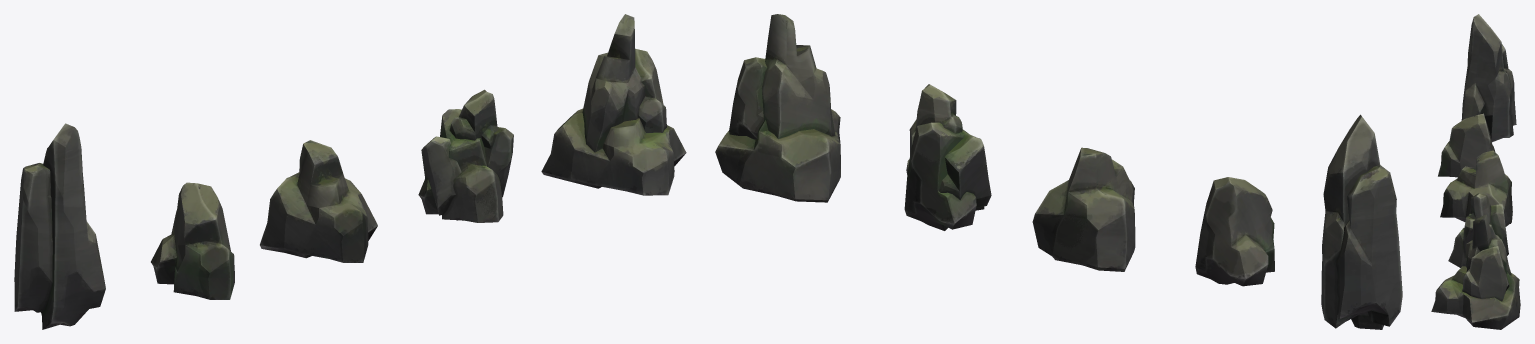
File: Rocks.glb
3 views of the same model, side by side, from view 1: azimuth 30°, elevation 25°; view 2: azimuth 150°, elevation 25°; view 3: azimuth 270°, elevation 25° (orthographic). The views are drawn at different scales.
Parts seen in each view (by area): view 1: Rock_4; view 2: Rock_4; view 3: Rock_4.
Part boxes in pixels (bbox=[...]): Rock_4: bbox=[14, 14, 686, 329]; Rock_4: bbox=[715, 14, 1402, 329]; Rock_4: bbox=[1431, 14, 1520, 329].
Bounding box in the file's own units: 7.28 × 2.15 × 1.32.
Materials: 1 (1 with a texture image).
